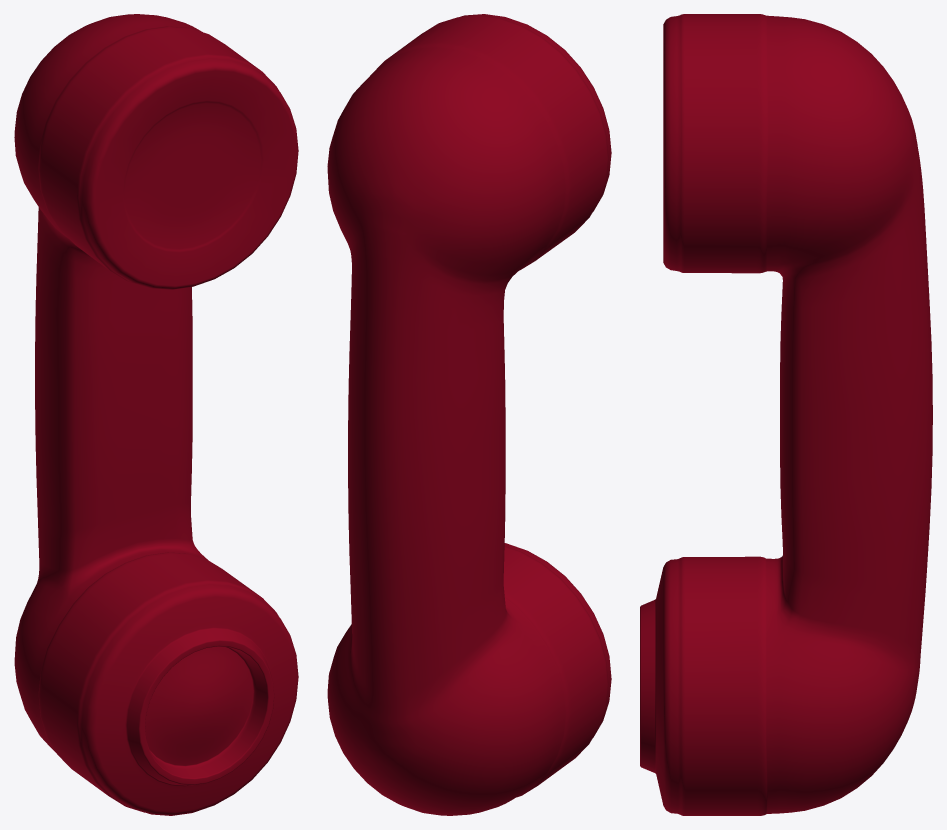
Rendered from telephone.glb.
3 renders of one model, left to right at view 1: azimuth 30°, elevation 25°; view 2: azimuth 150°, elevation 25°; view 3: azimuth 270°, elevation 25°, orthographic. The views are drawn at different scales.
Parts seen in each view (by area): view 1: node_id30; view 2: node_id30; view 3: node_id30.
Part boxes in pixels (x1,y1,x2,y2): node_id30: (14, 14, 298, 815); node_id30: (327, 14, 611, 815); node_id30: (640, 14, 932, 815).
Size of the model in its own units: 0.1547 by 0.512 by 0.1747.
1 material, 1 textured.
